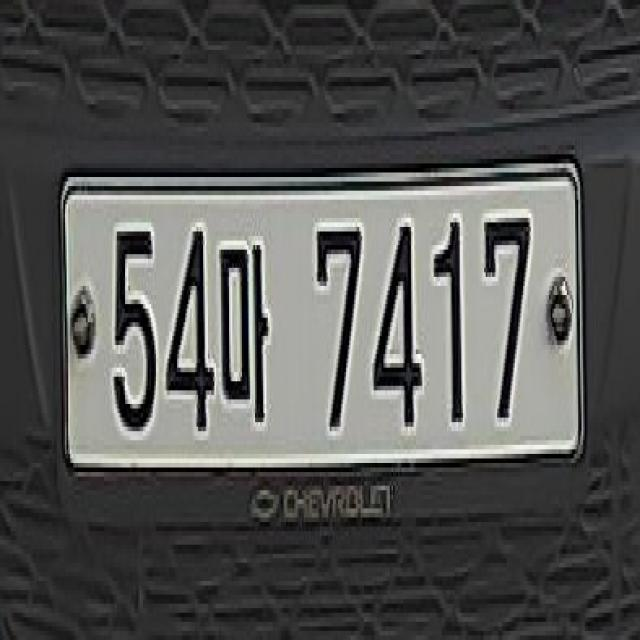1: (433, 186, 472, 449)
4: (161, 196, 219, 450), (370, 191, 429, 440)
5: (102, 186, 156, 454)
7: (310, 218, 370, 454), (482, 209, 541, 436)
license_plate: (58, 150, 594, 490)
ma: (216, 236, 275, 431)
